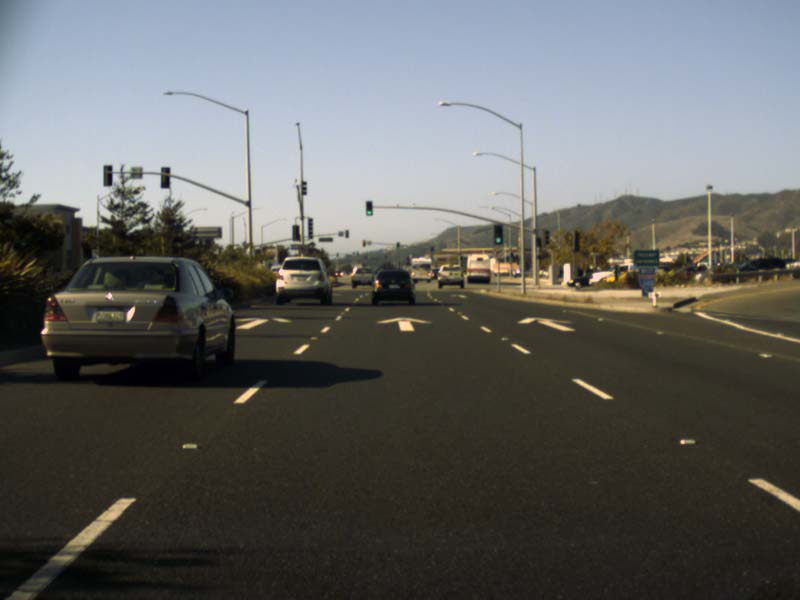Green: (493, 223, 502, 245), (364, 200, 372, 216)
